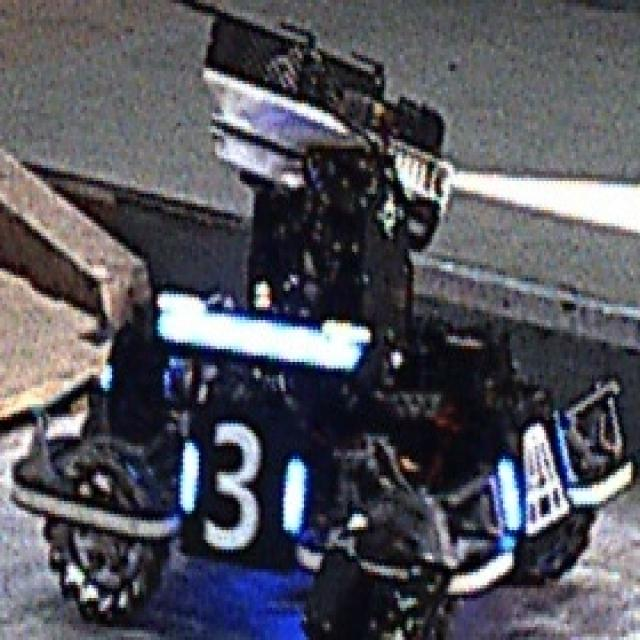B3: (174, 417, 302, 553)
